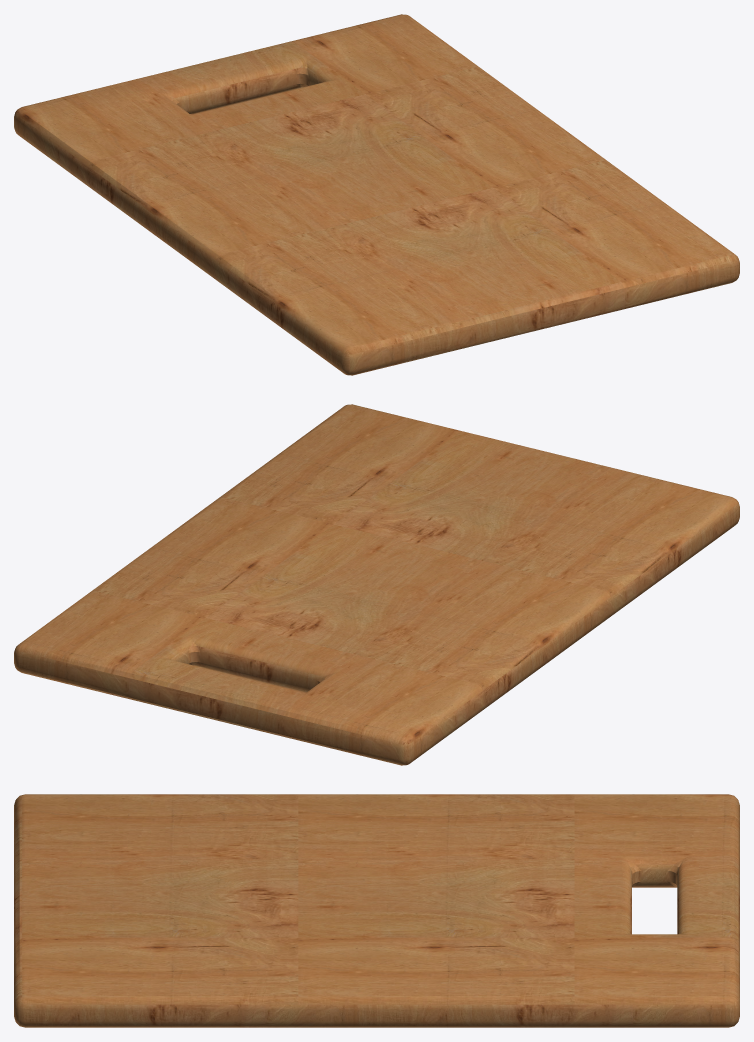
Rendered from CuttingBoard.glb.
3 views of the same model, one above another, from view 1: azimuth 30°, elevation 25°; view 2: azimuth 150°, elevation 25°; view 3: azimuth 270°, elevation 25° (orthographic). The views are drawn at different scales.
Parts seen in each view (by area): view 1: Cube; view 2: Cube; view 3: Cube.
Part boxes in pixels (x1,y1,x2,y2): Cube: (14, 14, 739, 375); Cube: (14, 404, 739, 765); Cube: (14, 794, 739, 1027).
Size of the model in its own units: 0.4444 by 0.0308 by 0.6505.
1 material, 1 textured.
